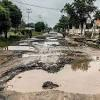Pothole: (0, 62, 100, 99), (2, 39, 38, 61)
